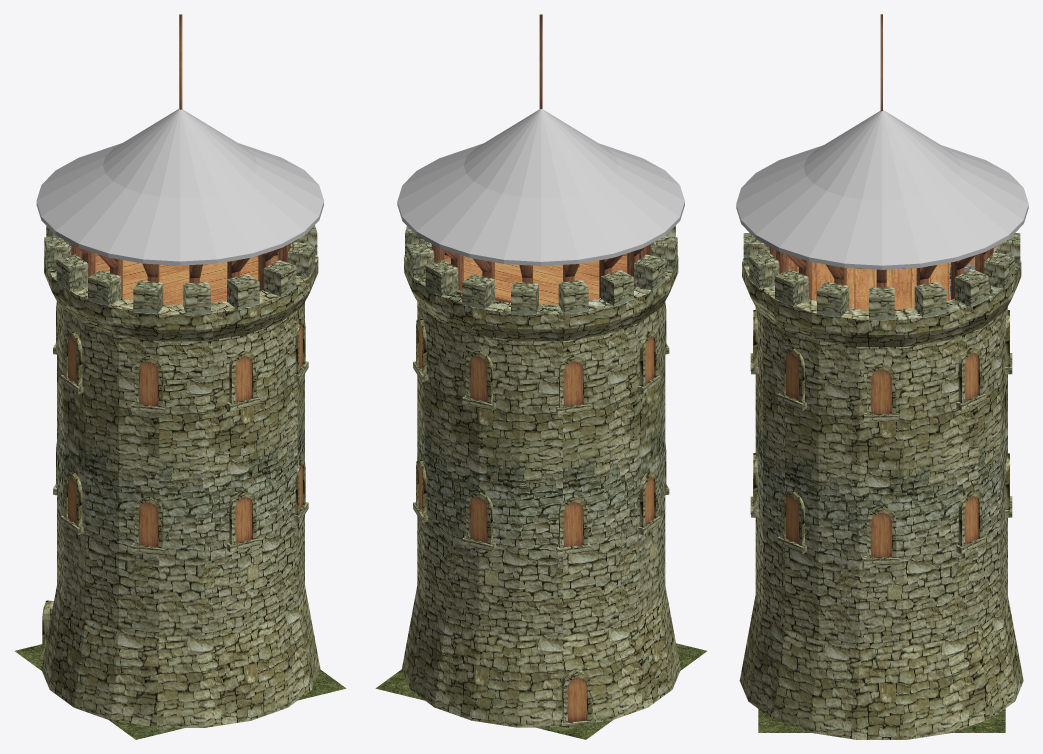
Rendered from RoundTower2.obj.
3 views of the same model, side by side, from view 1: azimuth 30°, elevation 25°; view 2: azimuth 150°, elevation 25°; view 3: azimuth 270°, elevation 25° (orthographic).
Visible parts, largest first — view 1: limestone, roof, floor, mudgrass; view 2: limestone, roof, floor, mudgrass; view 3: limestone, roof, floor, mudgrass.
Boxes of the visible parts, <box> form: limestone: <box>40,225,320,727</box>; roof: <box>36,108,323,265</box>; floor: <box>68,14,302,547</box>; mudgrass: <box>15,644,346,739</box>; limestone: <box>401,225,680,728</box>; roof: <box>397,109,684,265</box>; floor: <box>418,14,654,722</box>; mudgrass: <box>375,643,706,739</box>; limestone: <box>739,233,1023,739</box>; roof: <box>736,110,1028,269</box>; floor: <box>769,14,993,557</box>; mudgrass: <box>758,708,1005,732</box>.
Size of the model in its own units: 89.84 by 226 by 89.84.
